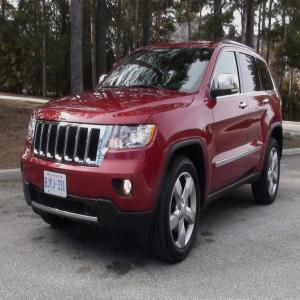Vehicle-registration-plate: (44, 170, 67, 197)
